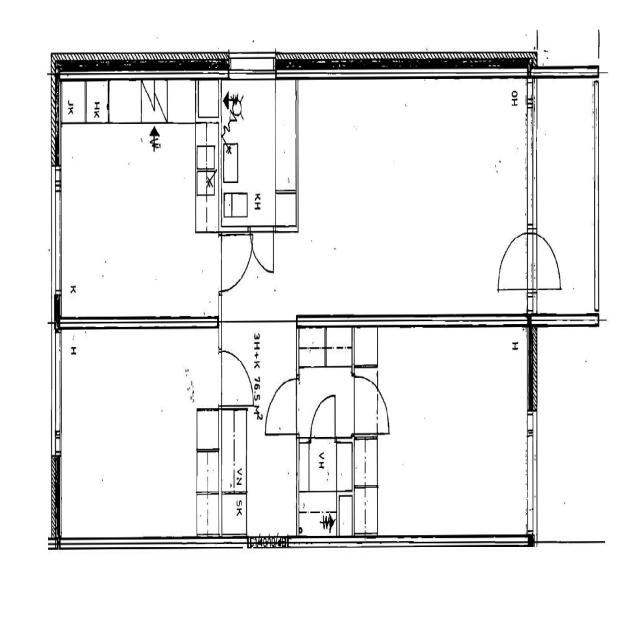door: (218, 344, 255, 408), (218, 228, 252, 296), (494, 228, 530, 292), (351, 368, 383, 436), (264, 374, 299, 436), (532, 229, 564, 291), (249, 223, 276, 278), (309, 390, 338, 440), (364, 376, 388, 434), (374, 389, 392, 436), (201, 294, 221, 322)
window: (46, 327, 68, 464), (48, 171, 67, 304), (523, 404, 540, 529), (527, 113, 542, 230), (226, 51, 277, 78)
zone: (294, 75, 528, 308), (56, 80, 216, 327), (56, 324, 220, 544), (377, 322, 532, 542), (533, 69, 598, 317), (220, 77, 292, 226), (297, 329, 354, 439), (296, 438, 354, 537), (58, 78, 109, 124)
